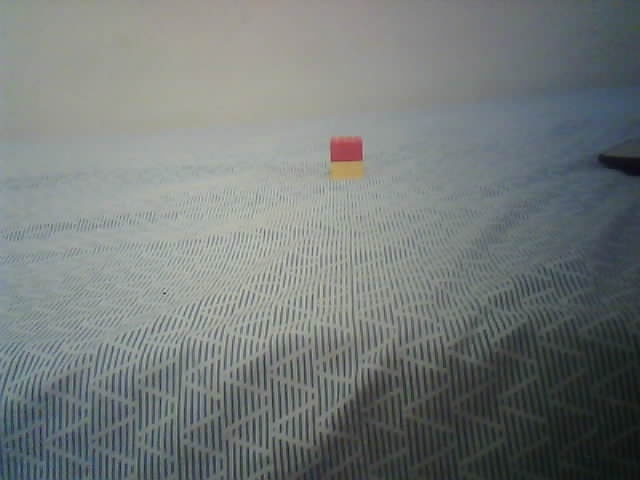lego: (328, 135, 365, 179)
